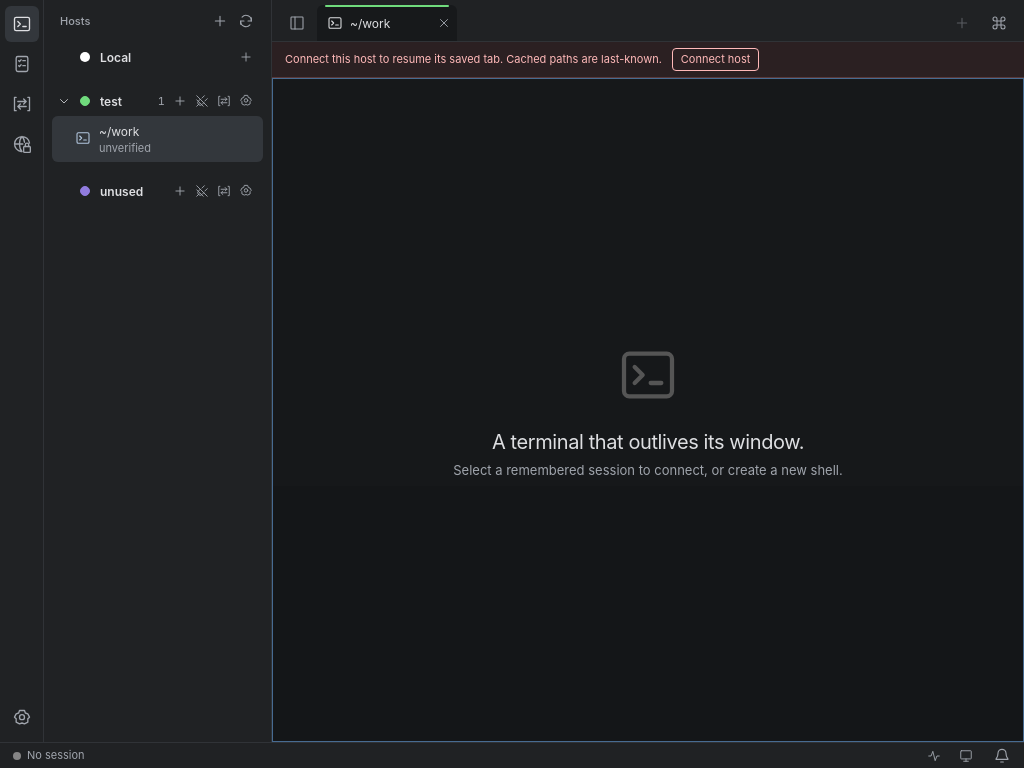
Test: workspace-backed terminal page › opens Credentials from the command palette
Check: the button "Connect host" is shown, box top-left (672, 48), bottom-right (759, 71)
Press KeyP
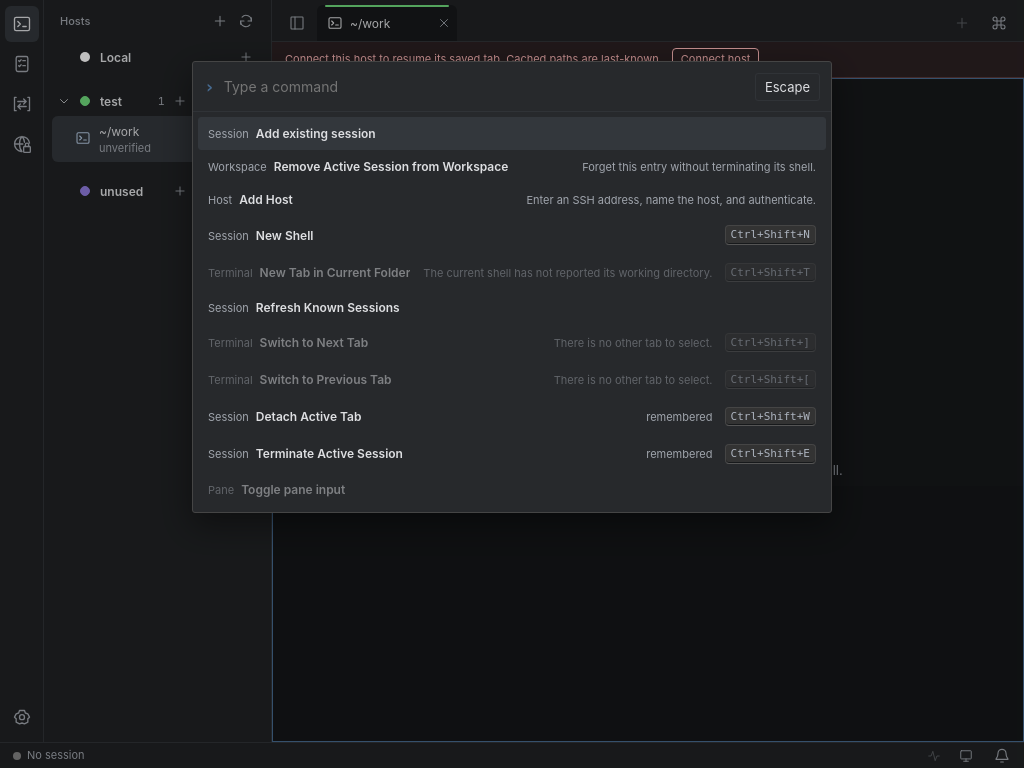
Type "Credentials" into the dropdown named "Search commands" at (485, 87), box top-left (224, 71), bottom-right (746, 102)
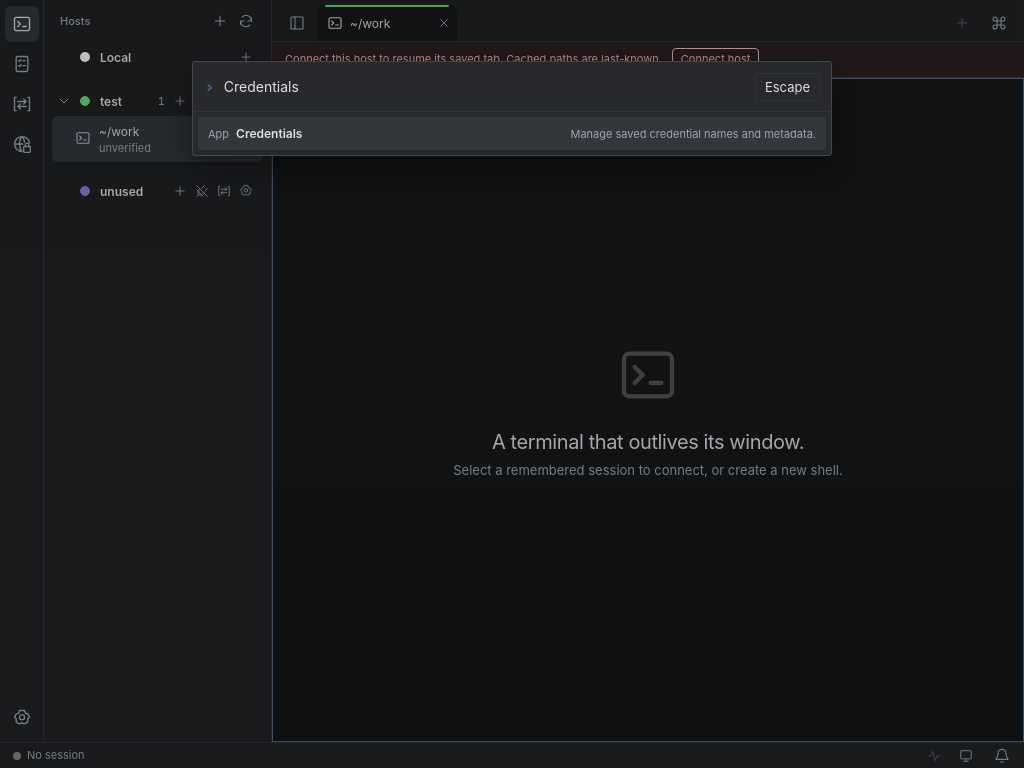
Click the option "App Credentials Manage saved credential names and metadata." at (269, 134), box top-left (198, 117), bottom-right (826, 150)
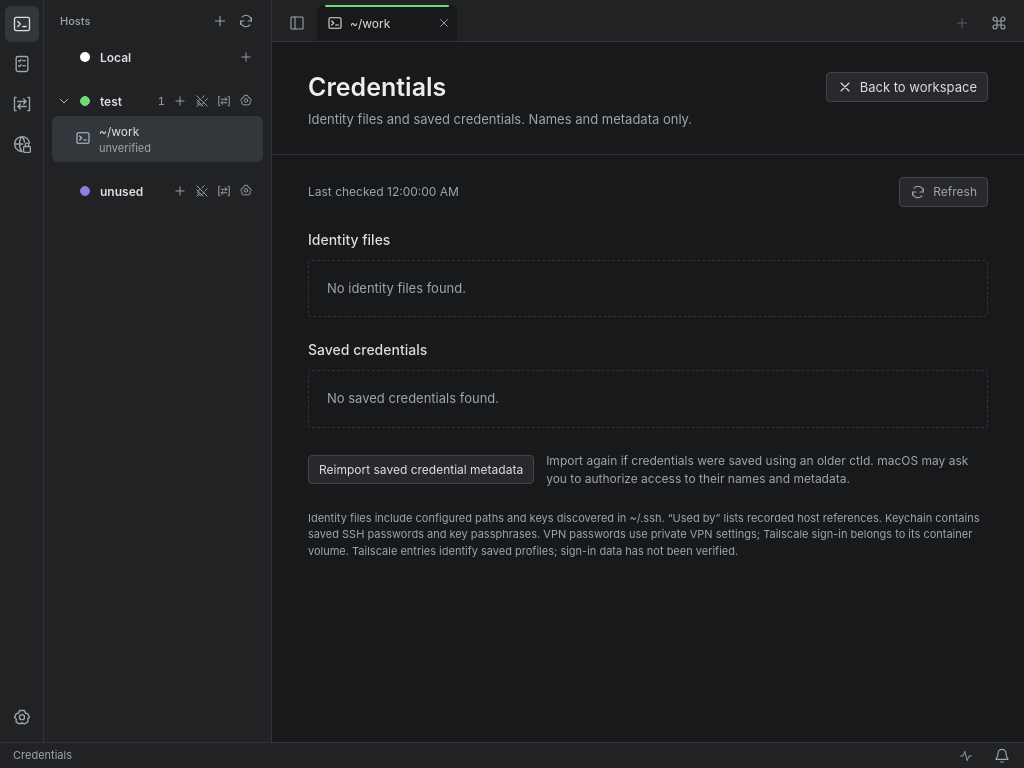
Check: the heading "Credentials" is shown, box top-left (308, 72), bottom-right (446, 102)
